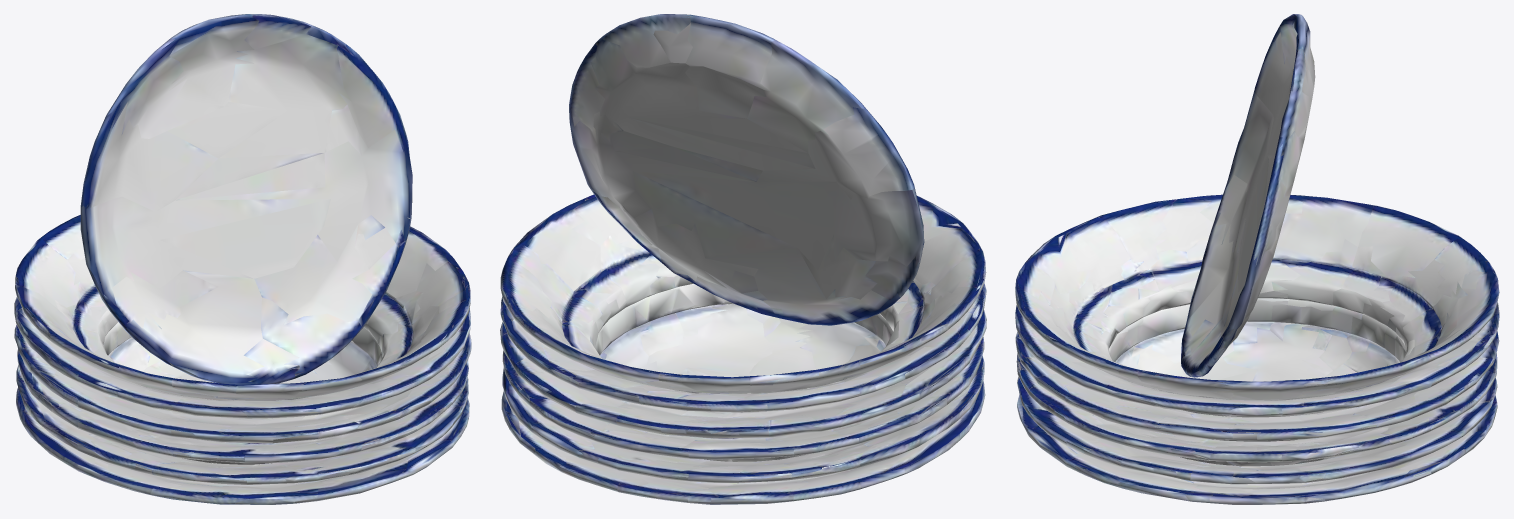
File: plates.glb
The picture shows the model from 3 angles, left to right: view 1: azimuth 30°, elevation 25°; view 2: azimuth 150°, elevation 25°; view 3: azimuth 270°, elevation 25°; orthographic projection. The views are drawn at different scales.
Bounding box in the file's own units: 1.77 × 1.74 × 1.9.
Materials: 1 (1 with a texture image).
